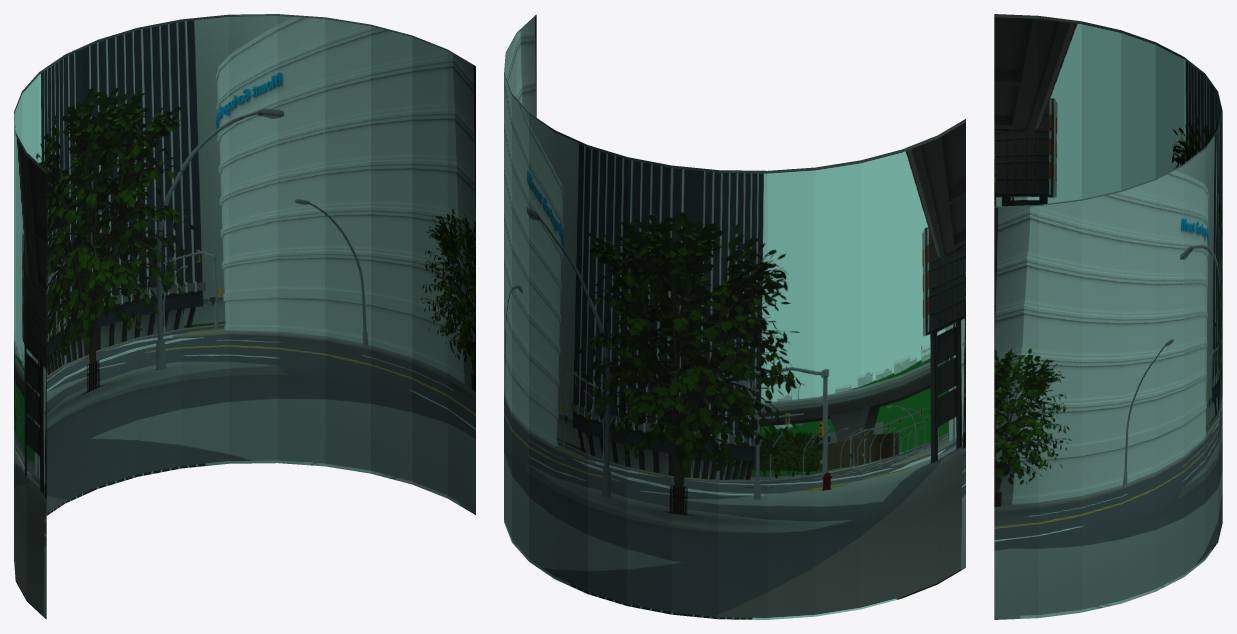
Rendered from ventana_ondo.fbx.
The picture shows the model from 3 angles, left to right: view 1: azimuth 30°, elevation 25°; view 2: azimuth 150°, elevation 25°; view 3: azimuth 270°, elevation 25°; orthographic projection. The views are drawn at different scales.
Visible parts, largest first — view 1: Cylinder; view 2: Cylinder; view 3: Cylinder.
Part boxes in pixels (x1,y1,x2,y2): Cylinder: [14, 14, 475, 619]; Cylinder: [504, 14, 965, 619]; Cylinder: [994, 14, 1222, 619].
Bounding box in the file's own units: 200 × 200 × 100.
1 material, 1 textured.
